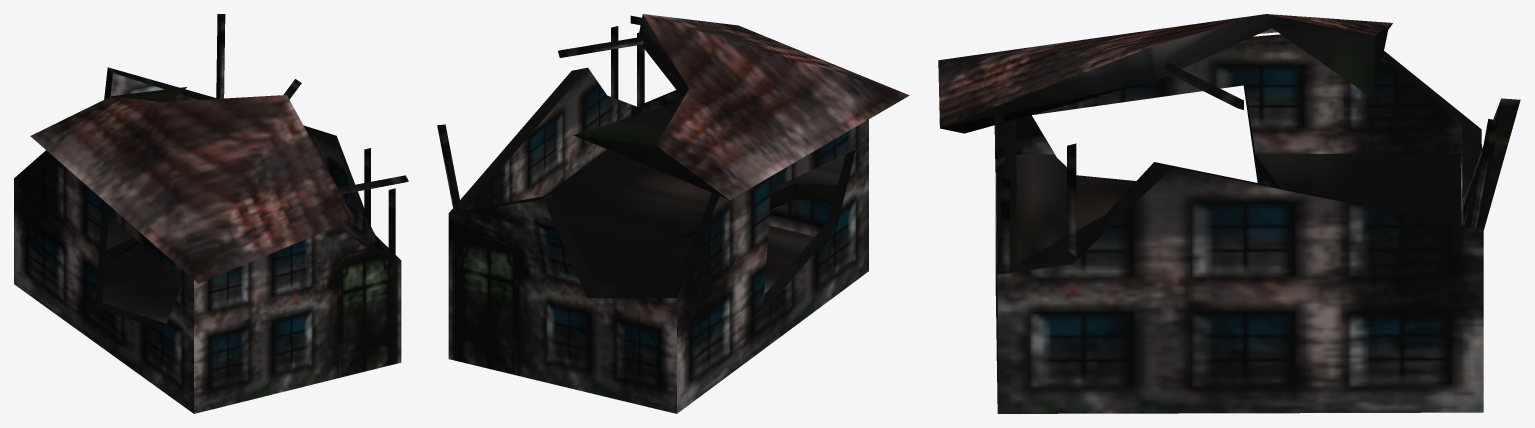
File: ruin01.obj
3 views of the same model, side by side, from view 1: azimuth 30°, elevation 25°; view 2: azimuth 150°, elevation 25°; view 3: azimuth 270°, elevation 25° (orthographic). The views are drawn at different scales.
Parts seen in each view (by area): view 1: Ruin; view 2: Ruin; view 3: Ruin.
Part boxes in pixels (x1,y1,x2,y2): Ruin: [14, 14, 408, 413]; Ruin: [437, 14, 909, 413]; Ruin: [938, 14, 1520, 413].
Bounding box in the file's own units: 18.95 × 18.69 × 30.02.
1 material, 1 textured.
